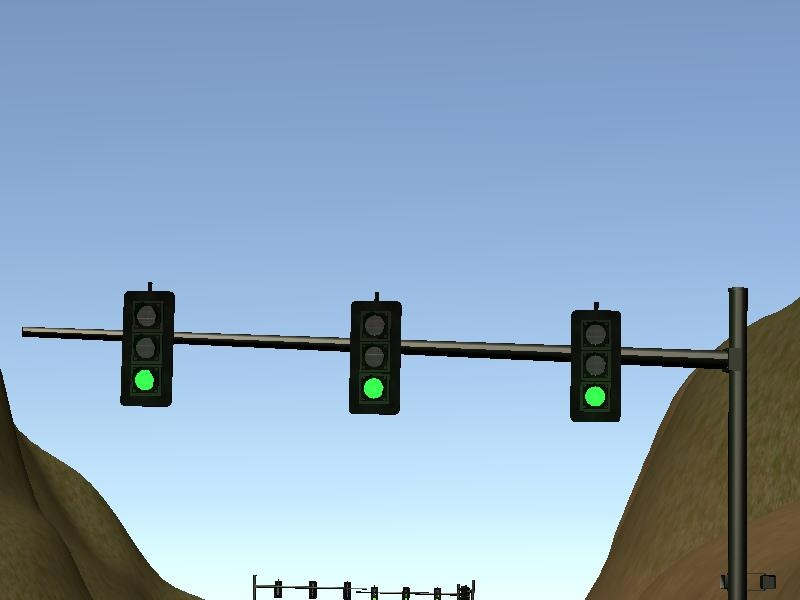green: (122, 290, 174, 407), (350, 302, 400, 415), (573, 310, 619, 422)
